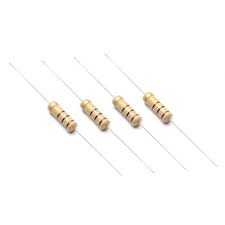resistor: (141, 85, 190, 127), (43, 96, 80, 142), (113, 97, 146, 128), (81, 99, 111, 131)
